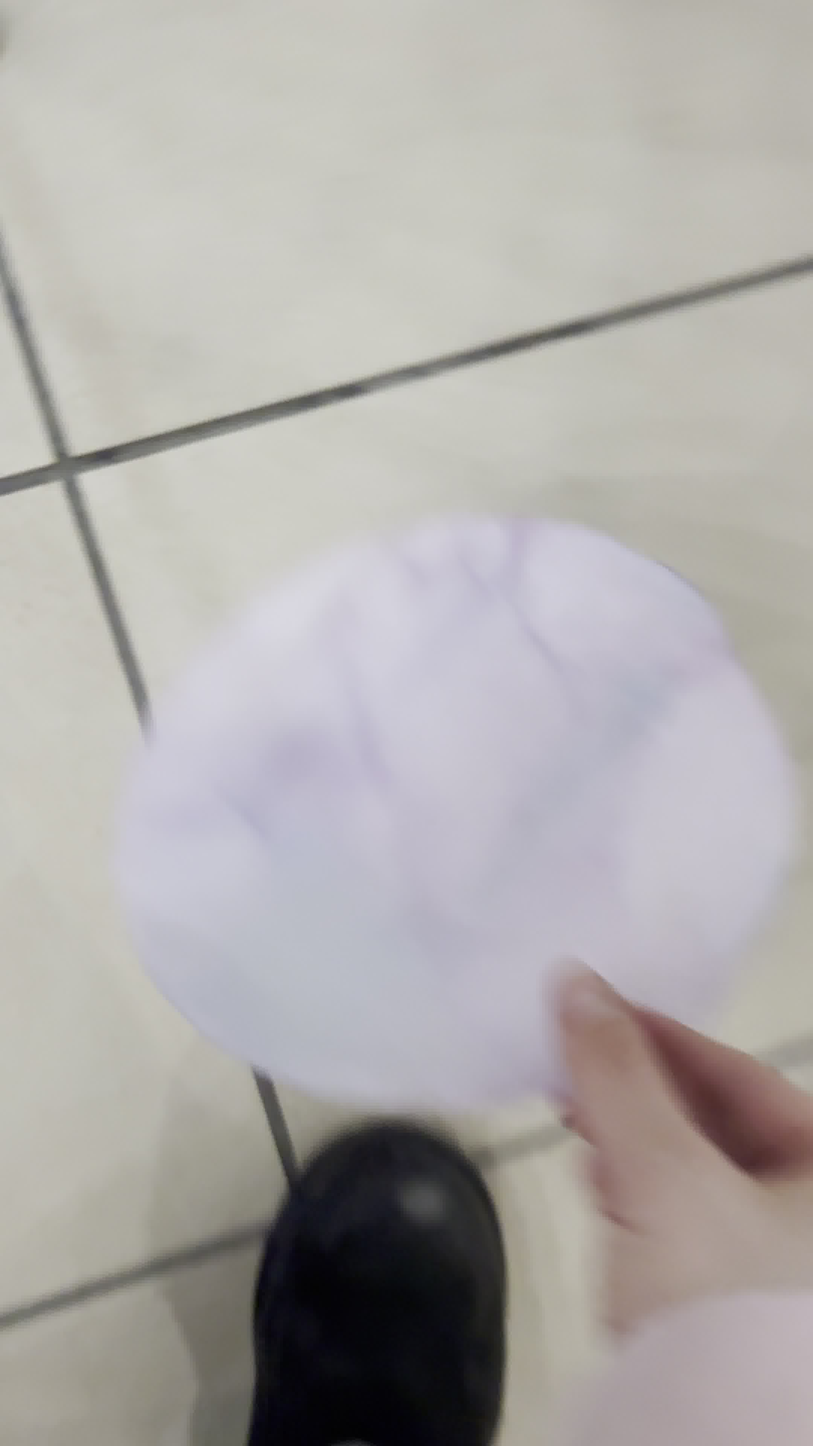Target: (145, 548, 789, 1111)
